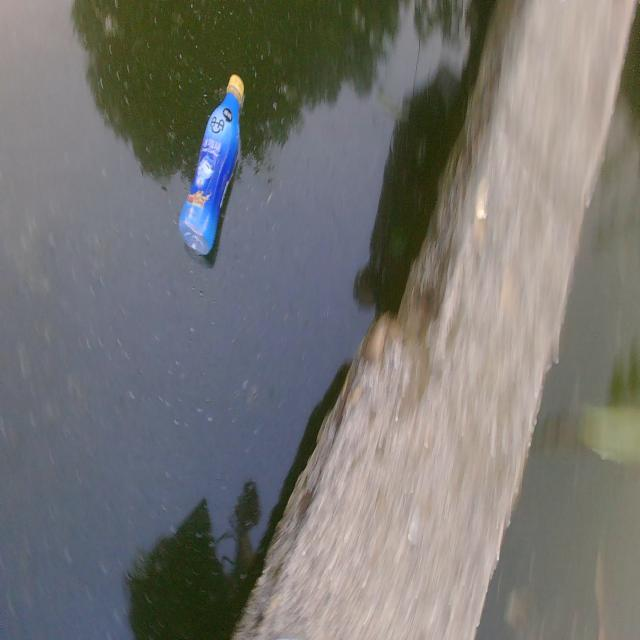Bottle: (176, 68, 247, 257)
